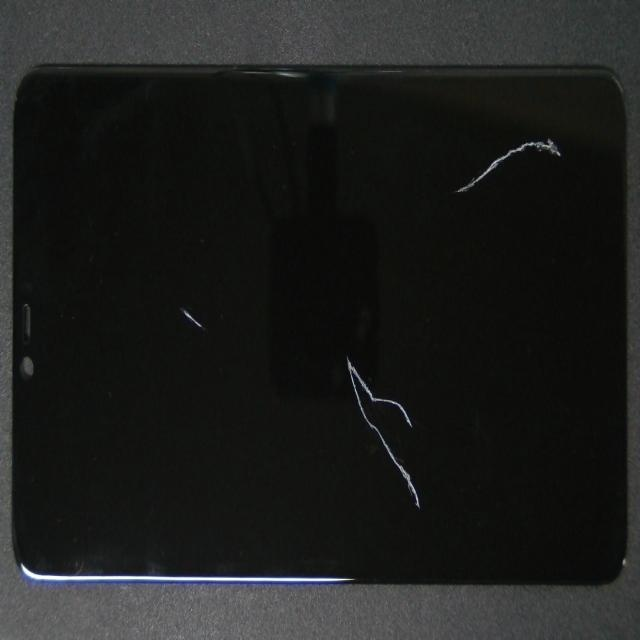scratch: (248, 253, 594, 589), (134, 164, 306, 456), (304, 98, 640, 214)
